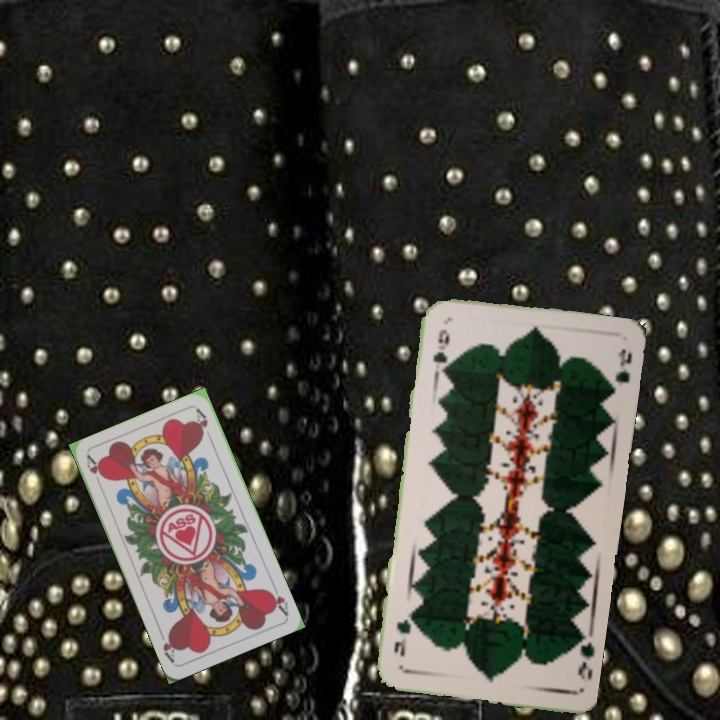G9: (568, 629, 596, 682), (428, 325, 451, 366)
HA: (264, 579, 291, 618), (82, 451, 107, 491)
